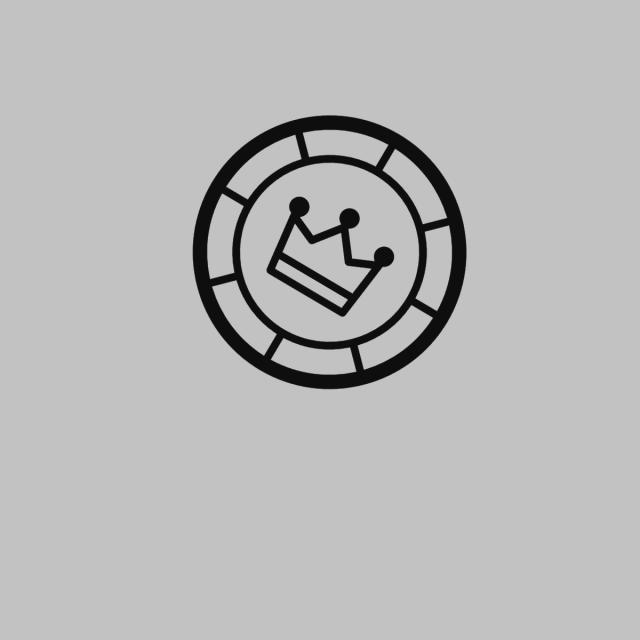coin: (186, 111, 474, 399)
